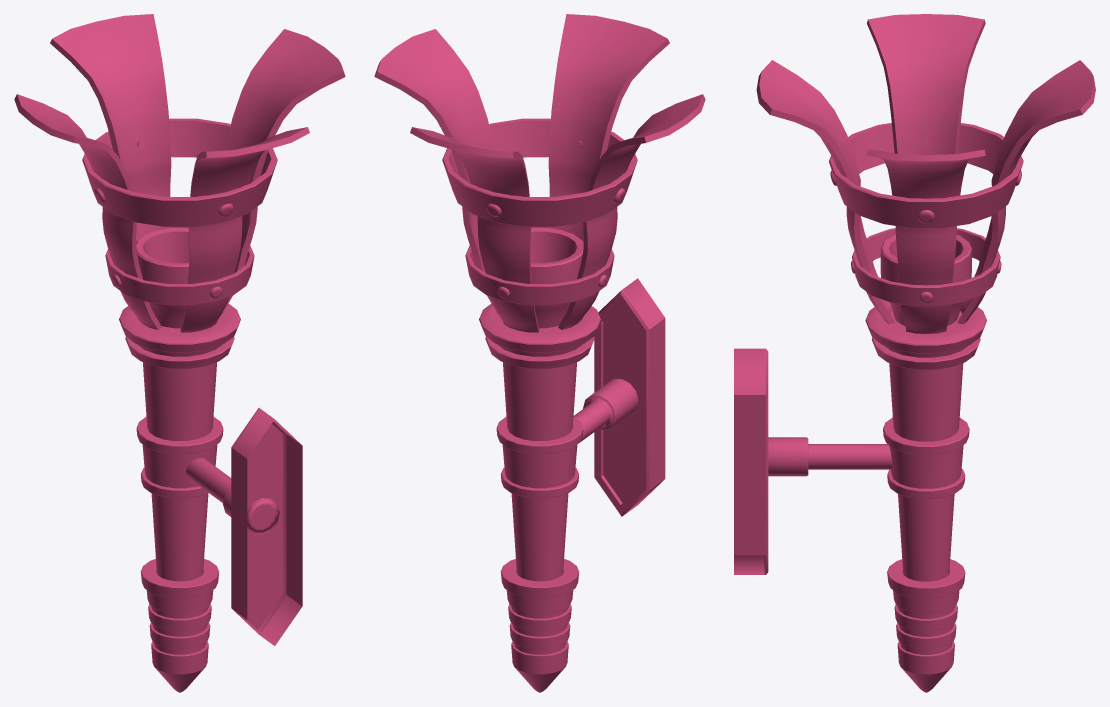
Rendered from Torch.fbx.
3 renders of one model, left to right at view 1: azimuth 30°, elevation 25°; view 2: azimuth 150°, elevation 25°; view 3: azimuth 270°, elevation 25°, orthographic.
Visible parts, largest first — view 1: Torch; view 2: Torch; view 3: Torch.
Part boxes in pixels (x1,y1,x2,y2): Torch: (14, 14, 345, 692); Torch: (374, 14, 705, 692); Torch: (734, 14, 1095, 692).
Bounding box in the file's own units: 33.25 × 65.77 × 35.46.
